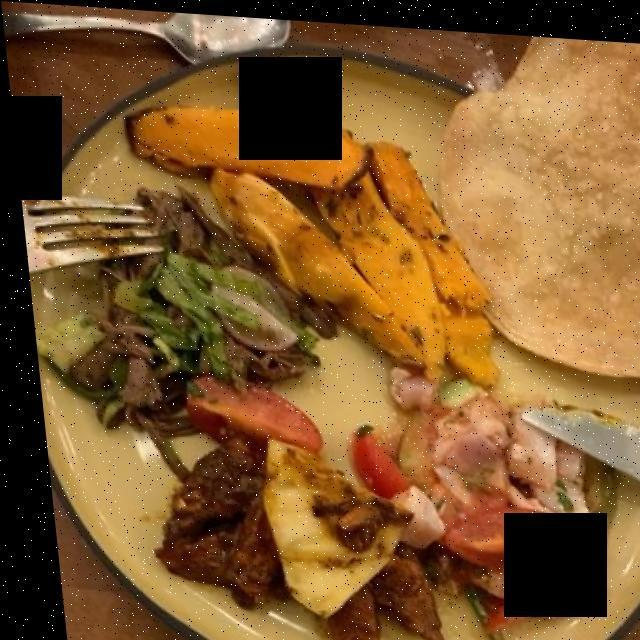pineapple: (253, 430, 400, 604)
sweet-potato: (124, 81, 485, 374)
tomato: (181, 370, 576, 613)
